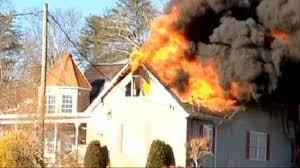fire: (129, 4, 240, 110)
